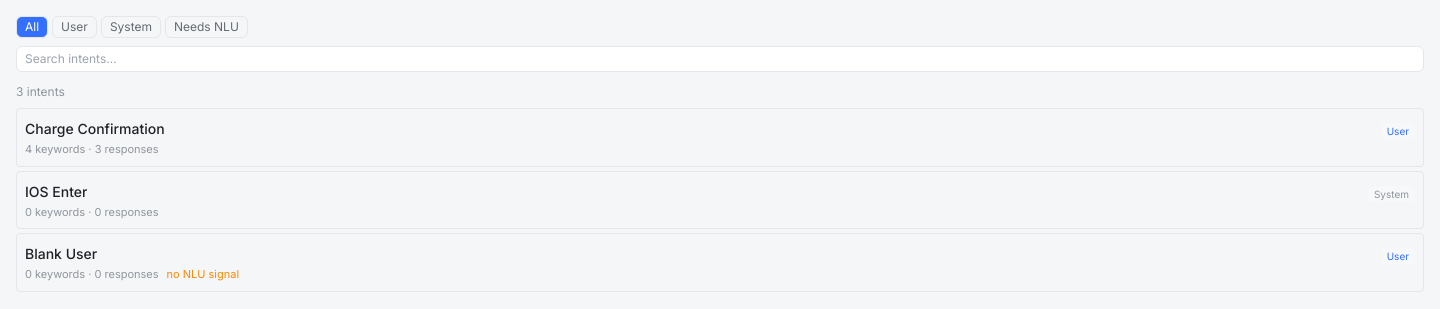
Test: IntentsPanel › filters needs-nlu
This screenshot has width=1440, height=309.
Click the button with test id "chip-needs-nlu". click: (206, 27)
box: top-left (165, 16), bottom-right (248, 38)
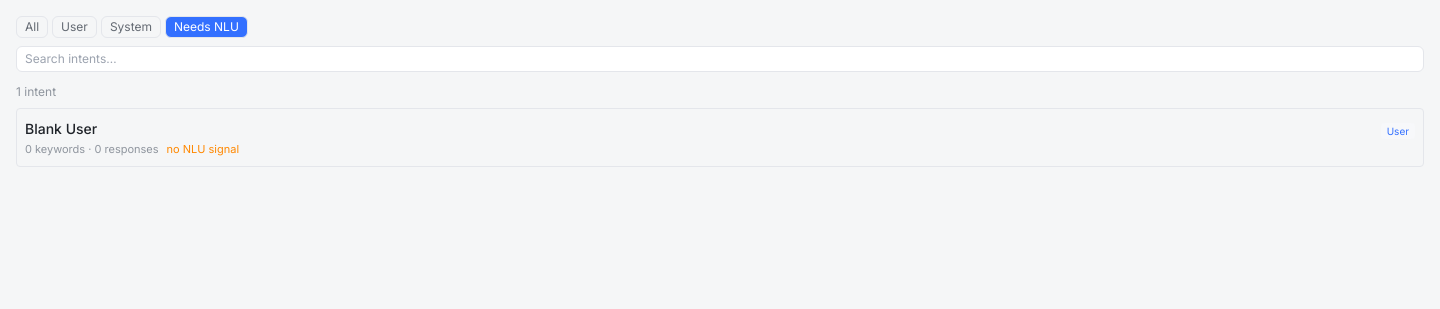
Expected: the text "Blank User" is shown, top-left (25, 119), bottom-right (97, 139)
Now the number of list items with test id "intent-row" is 1, box top-left (16, 108), bottom-right (1424, 166)
